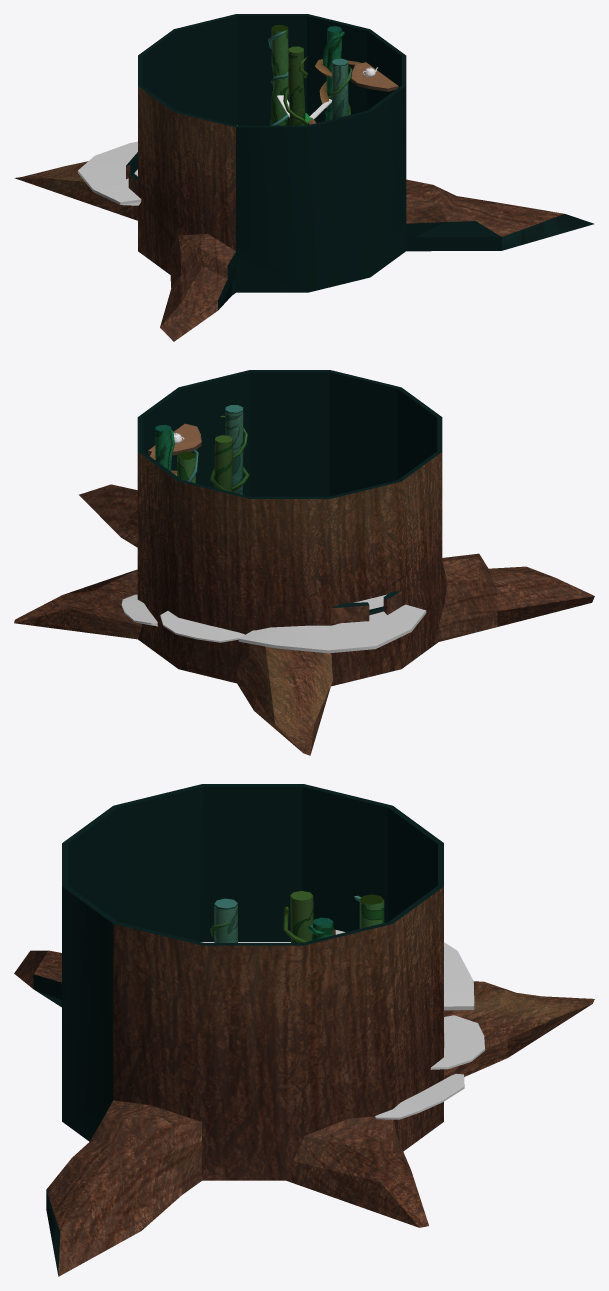
File: leveldesign boomstronk 2.FBX
The picture shows the model from 3 angles, top to bottom: view 1: azimuth 30°, elevation 25°; view 2: azimuth 150°, elevation 25°; view 3: azimuth 270°, elevation 25°; orthographic projection. The views are drawn at different scales.
Visible parts, largest first — view 1: Cylinder014, paddestoel, Cylinder008, Cylinder010, Cylinder012, Box001, Cylinder005; view 2: Cylinder014, paddestoel, paddestoel003, Cylinder012, Cylinder010, Box001, paddestoel004, Cylinder005; view 3: Cylinder014, paddestoel003, paddestoel, paddestoel004, Cylinder010, Cylinder012, Cylinder008.
Boxes of the visible parts, x1,y1,x2,y2 form: Cylinder014: [14, 14, 593, 341]; paddestoel: [78, 141, 141, 205]; Cylinder008: [270, 25, 288, 125]; Cylinder010: [288, 46, 305, 125]; Cylinder012: [331, 58, 348, 119]; Box001: [351, 62, 398, 91]; Cylinder005: [325, 26, 341, 120]; Cylinder014: [14, 370, 594, 755]; paddestoel: [238, 604, 426, 653]; paddestoel003: [160, 611, 244, 642]; Cylinder012: [225, 405, 243, 494]; Cylinder010: [214, 435, 232, 491]; Box001: [148, 423, 201, 455]; paddestoel004: [121, 594, 157, 626]; Cylinder005: [155, 424, 171, 471]; Cylinder014: [14, 784, 594, 1276]; paddestoel003: [430, 1015, 484, 1069]; paddestoel: [335, 930, 474, 1010]; paddestoel004: [375, 1073, 464, 1119]; Cylinder010: [290, 891, 313, 942]; Cylinder012: [214, 898, 237, 942]; Cylinder008: [359, 894, 384, 928].
Size of the model in its own units: 581 by 211 by 461.
